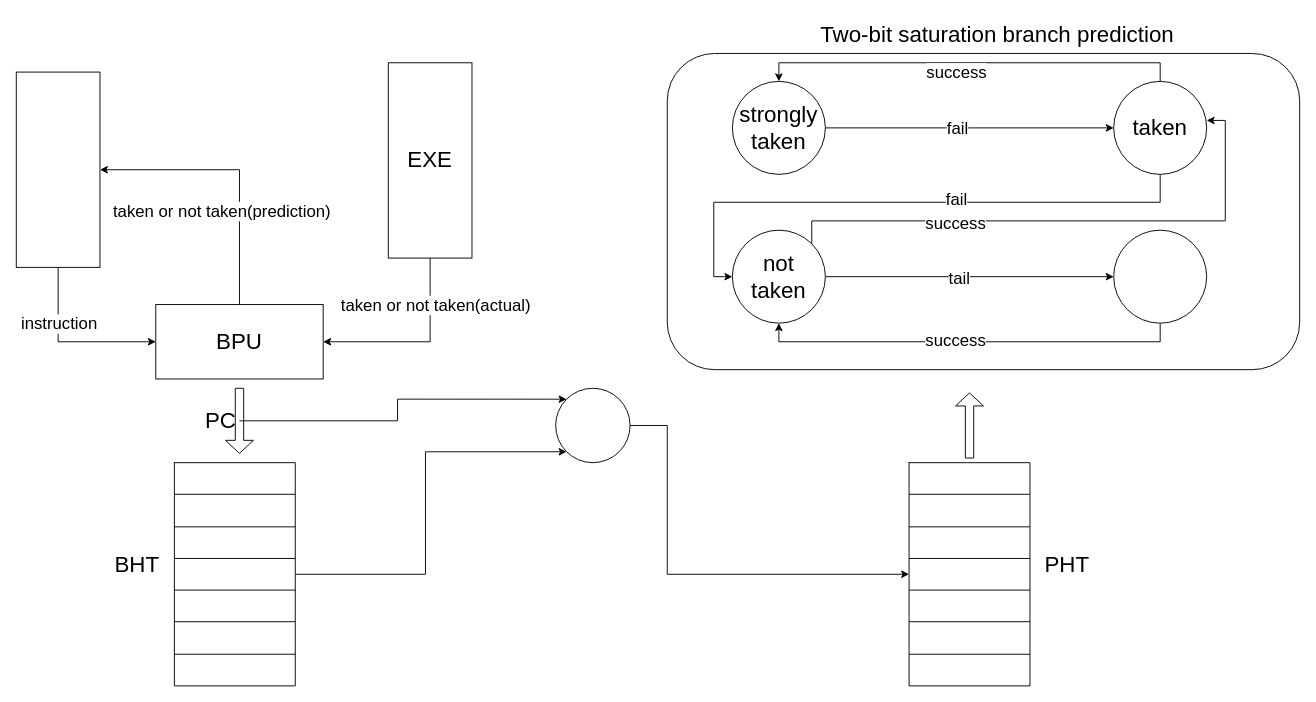
Image size: 1316x702. Some labels were removed from this diagram. The shapes that lost their labels are listed below. From the top down, each one's box as (x1, y1, x2, y2) in pixels, then its label:
(15, 71, 100, 267): IF
(1113, 229, 1207, 323): strongly not taken
(555, 387, 630, 463): Xor
